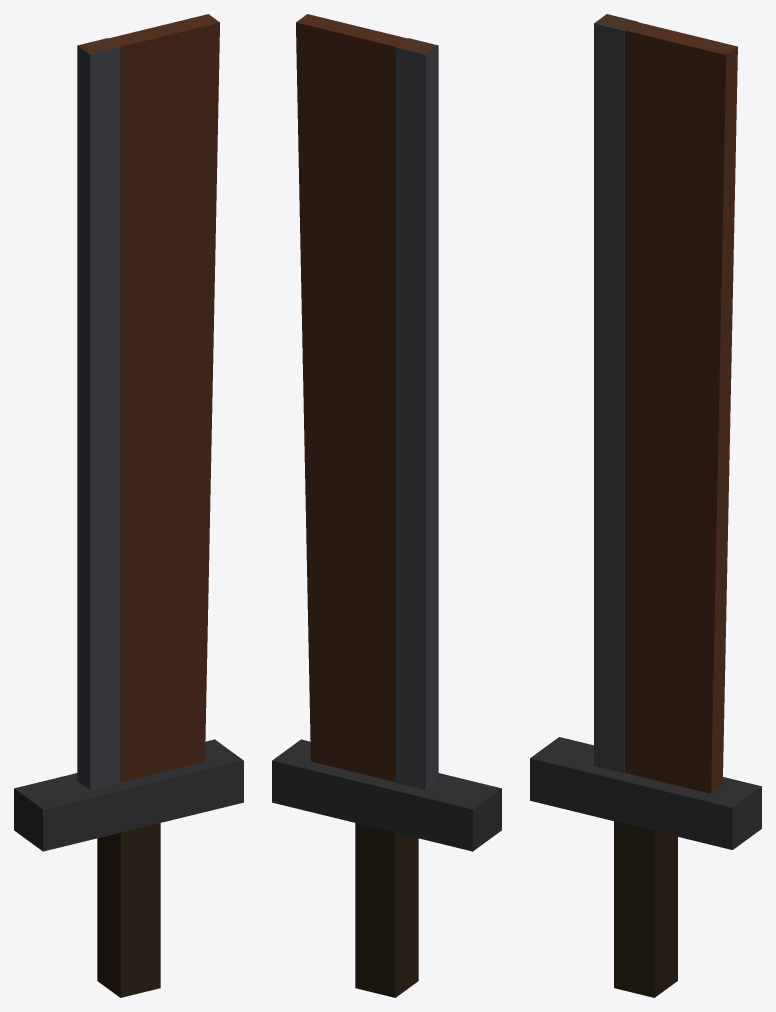
The model's file is rusted_falchion.glb.
3 renders of one model, left to right at view 1: azimuth 30°, elevation 25°; view 2: azimuth 150°, elevation 25°; view 3: azimuth 330°, elevation 25°, orthographic.
Visible parts, largest first — view 1: RustedFalchion; view 2: RustedFalchion; view 3: RustedFalchion.
Boxes of the visible parts, box(x1,y1,x2,y2) form: RustedFalchion: box(14, 14, 243, 997); RustedFalchion: box(272, 14, 501, 997); RustedFalchion: box(530, 14, 761, 997).
Bounding box in the file's own units: 0.2 × 0.9 × 0.05.
